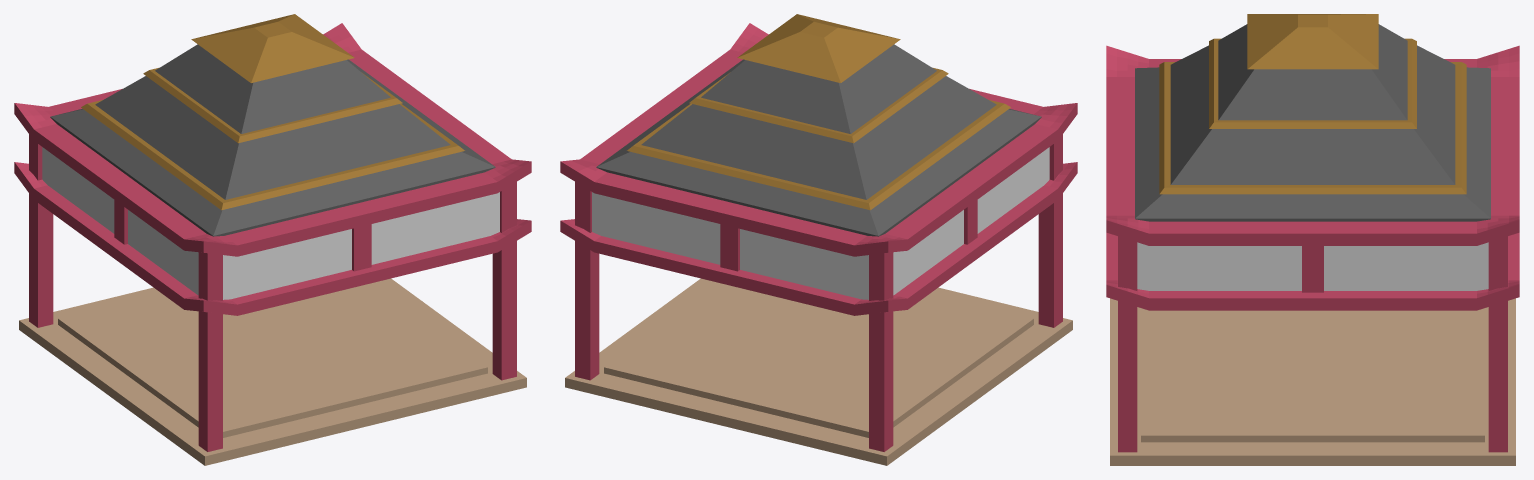
File: Shrine.fbx
The picture shows the model from 3 angles, left to right: view 1: azimuth 30°, elevation 25°; view 2: azimuth 150°, elevation 25°; view 3: azimuth 270°, elevation 25°; orthographic projection. The views are drawn at different scales.
Parts seen in each view (by area): view 1: Shrine; view 2: Shrine; view 3: Shrine.
Part boxes in pixels (bbox=[...]): Shrine: bbox=[14, 14, 531, 465]; Shrine: bbox=[560, 14, 1077, 465]; Shrine: bbox=[1106, 14, 1519, 465].
Size of the model in its own units: 1115 by 1069 by 1115.
